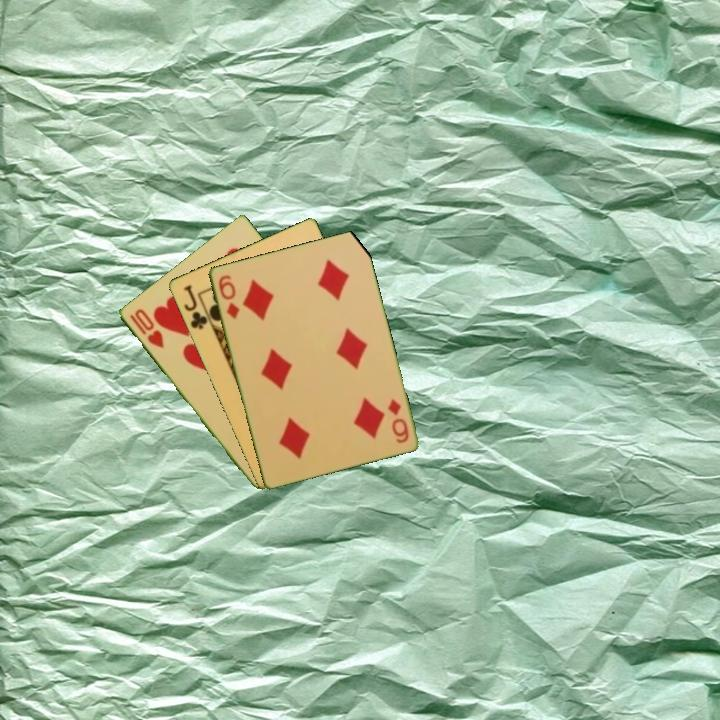10h: (126, 305, 167, 351)
6d: (214, 271, 242, 321), (384, 395, 411, 446)
Jc: (180, 281, 214, 332)
